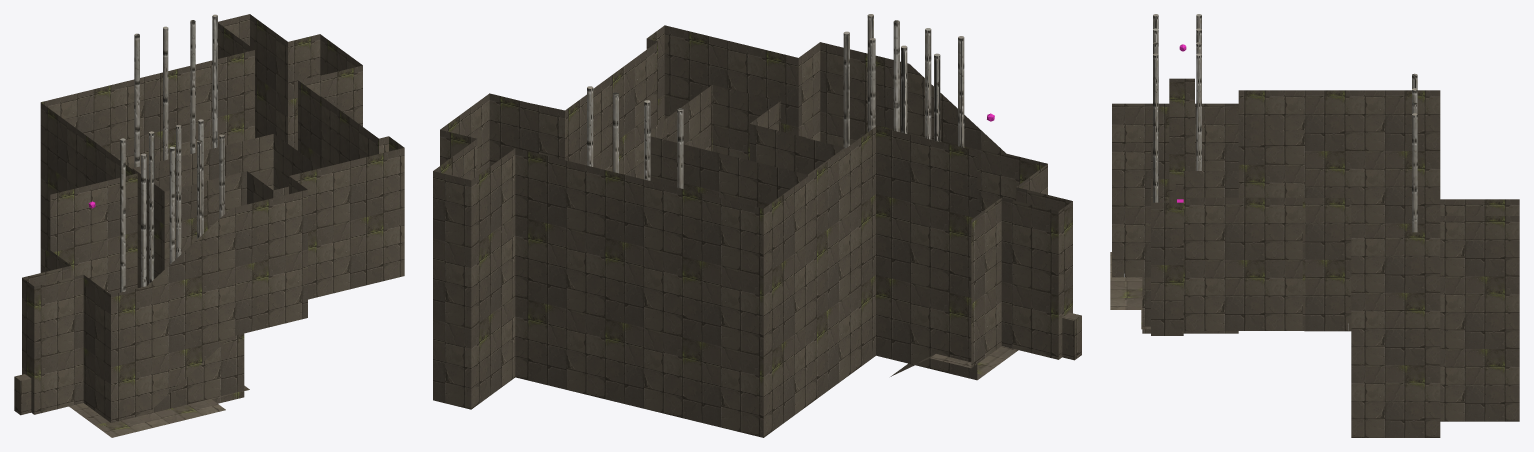
File: Level_003old.glb
The picture shows the model from 3 angles, left to right: view 1: azimuth 30°, elevation 25°; view 2: azimuth 150°, elevation 25°; view 3: azimuth 270°, elevation 25°; orthographic projection. The views are drawn at different scales.
Visible parts, largest first — view 1: Plane.003, Cylinder; view 2: Plane.003, Cylinder; view 3: Plane.003, Cylinder.
Part boxes in pixels (x1,y1,x2,y2): Plane.003: (14,14,404,437); Cylinder: (120,14,224,292); Plane.003: (433,25,1081,437); Cylinder: (587,14,964,188); Plane.003: (1110,78,1519,437); Cylinder: (1153,14,1417,232).
Size of the model in its own units: 125 by 74.13 by 99.95.
Materials: 3 (2 with a texture image).
